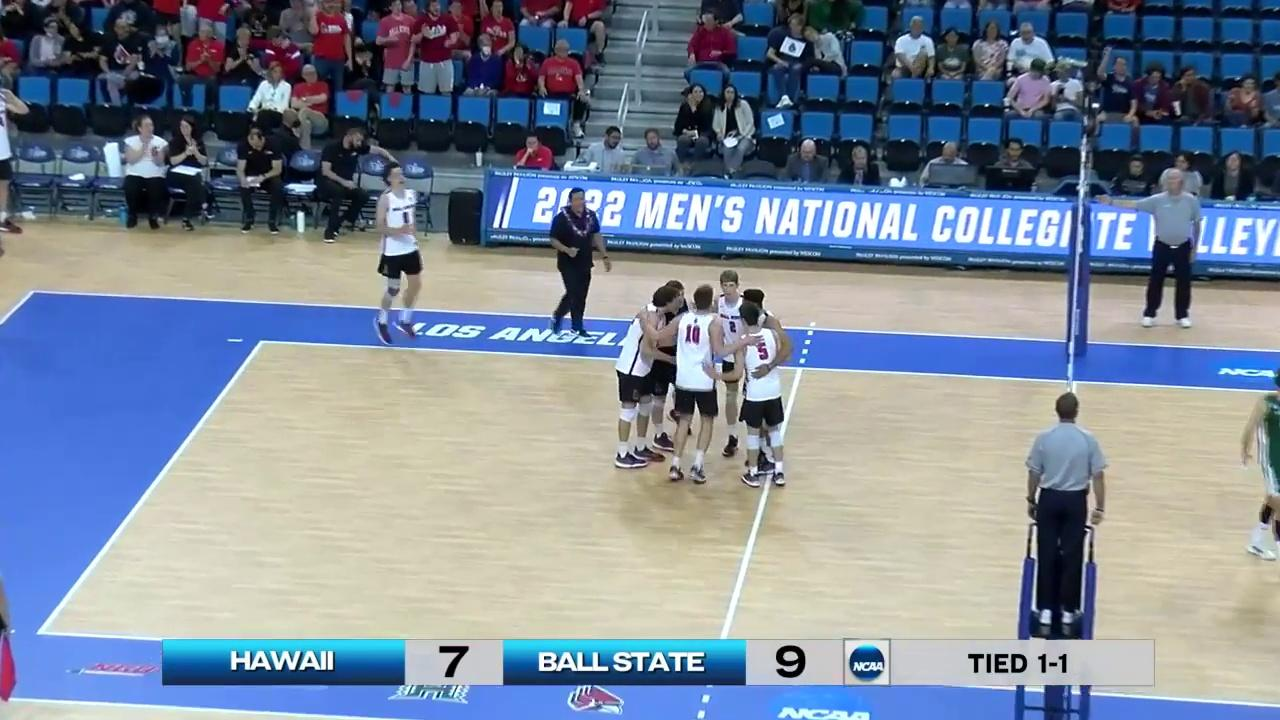player: (667, 288, 720, 482), (614, 288, 671, 466), (373, 165, 427, 343), (735, 306, 786, 490), (715, 274, 765, 455), (741, 289, 789, 471), (1242, 370, 1280, 566), (654, 281, 697, 451)
refree: (1021, 394, 1102, 633), (1140, 169, 1199, 328)
